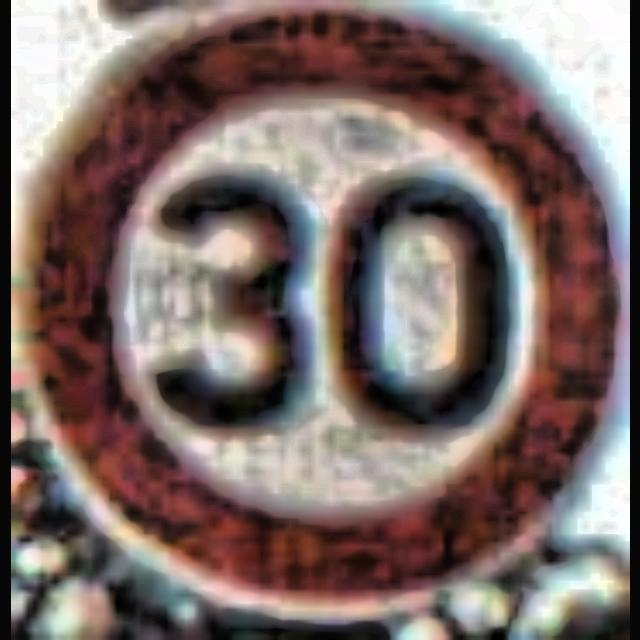speed_30: (10, 1, 622, 634)
